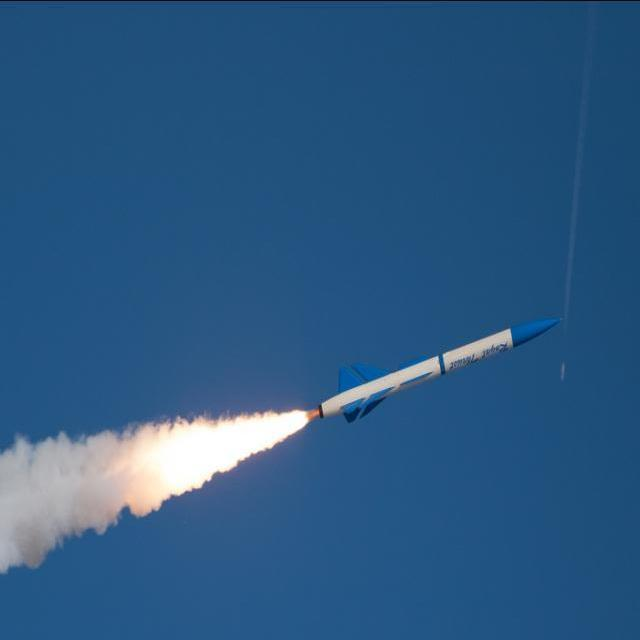missile: (312, 313, 558, 425)
